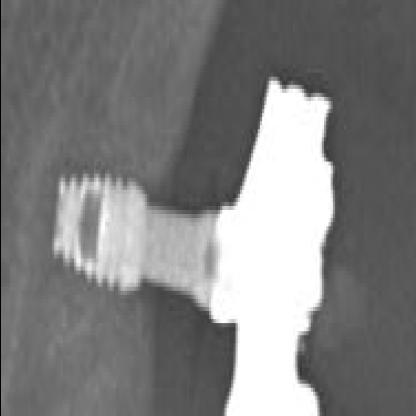Bicon: (36, 161, 217, 318)
